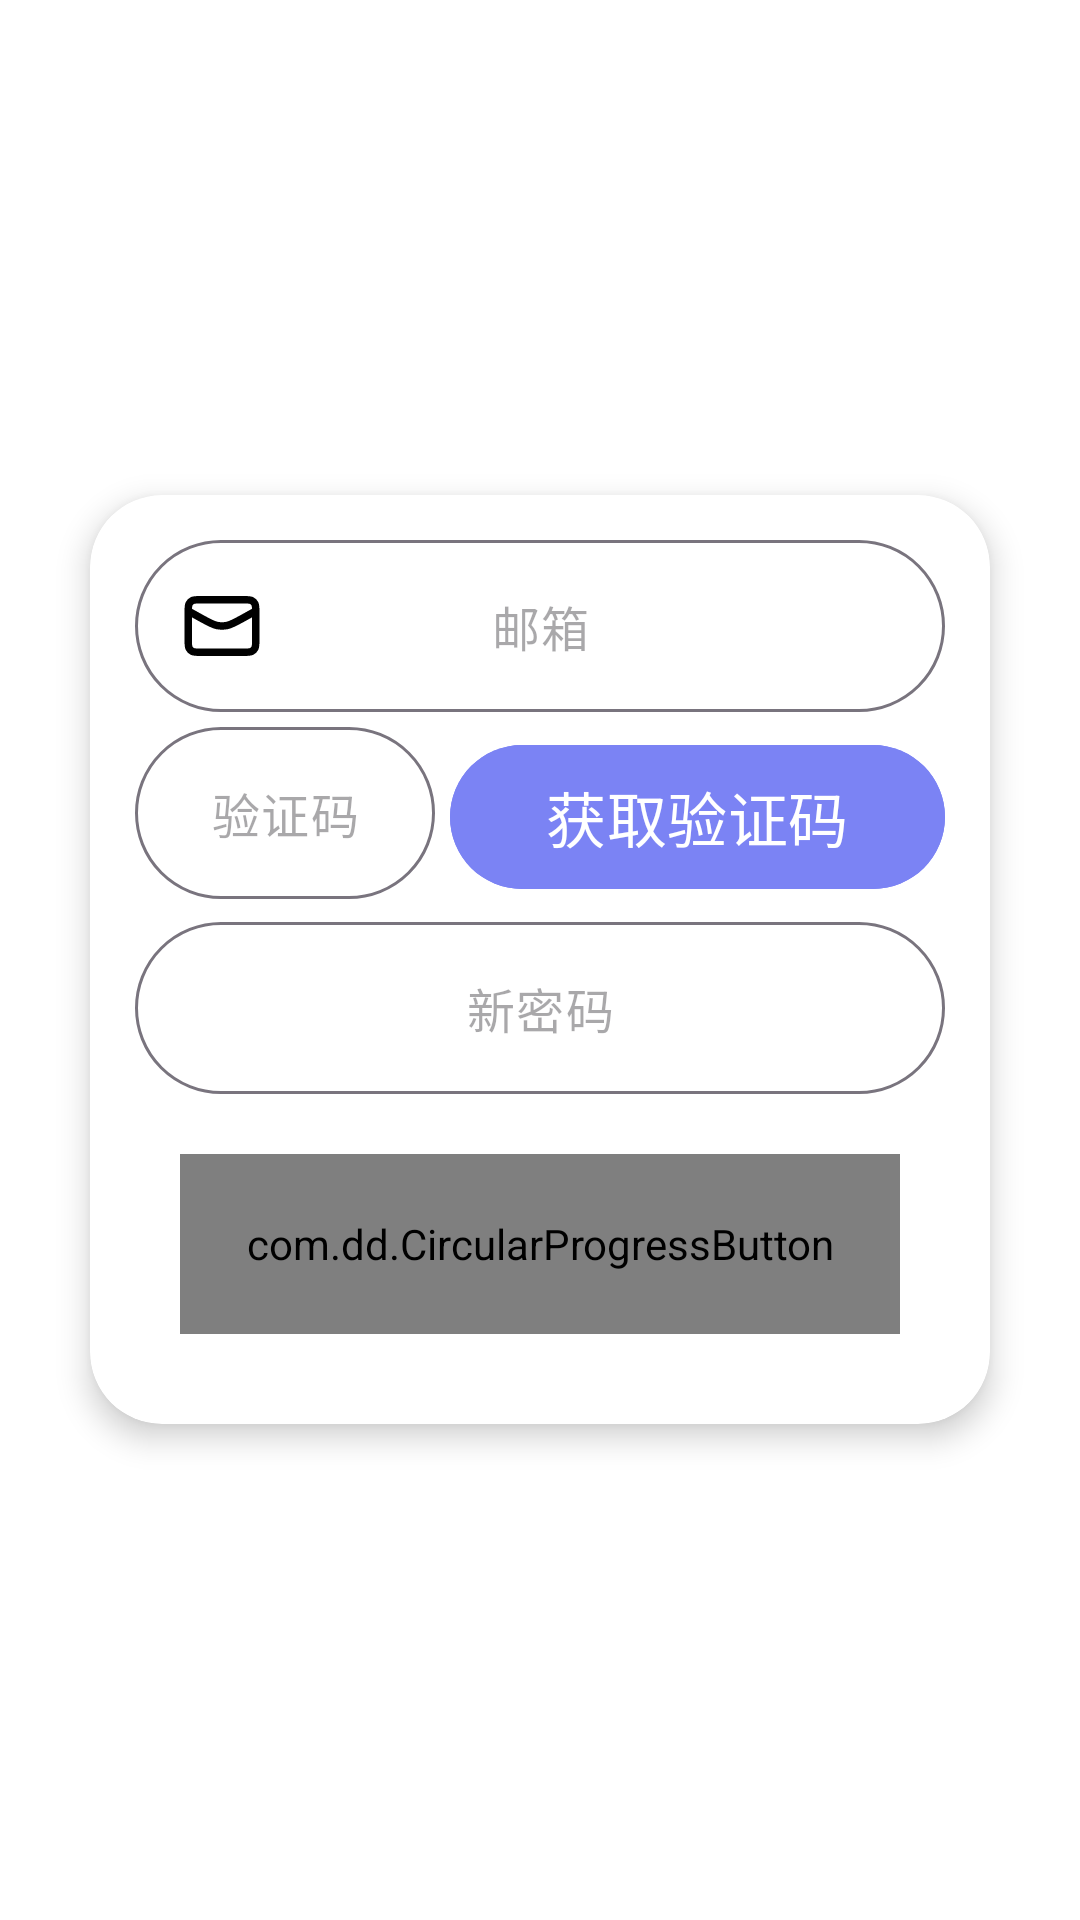

Icons on this 1080 x 1920 Android screen, each with its box as Rect(x1, y1, x2, y2):
mail: Rect(184, 596, 260, 656)
